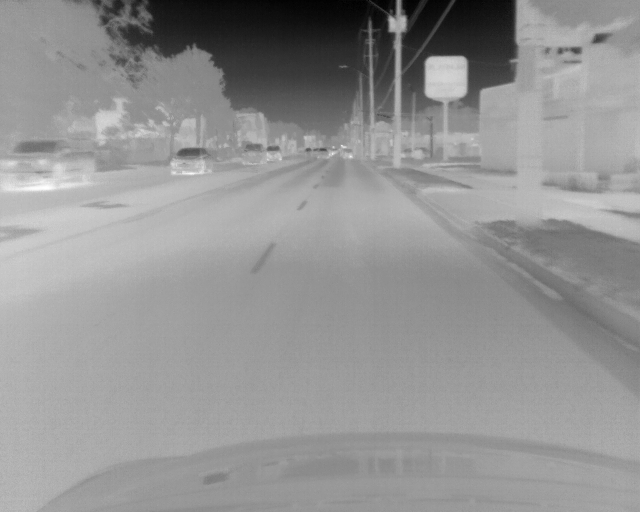car: (1, 136, 95, 191), (168, 147, 214, 176), (242, 143, 268, 165), (267, 144, 283, 163), (317, 147, 330, 160), (341, 148, 352, 159)
